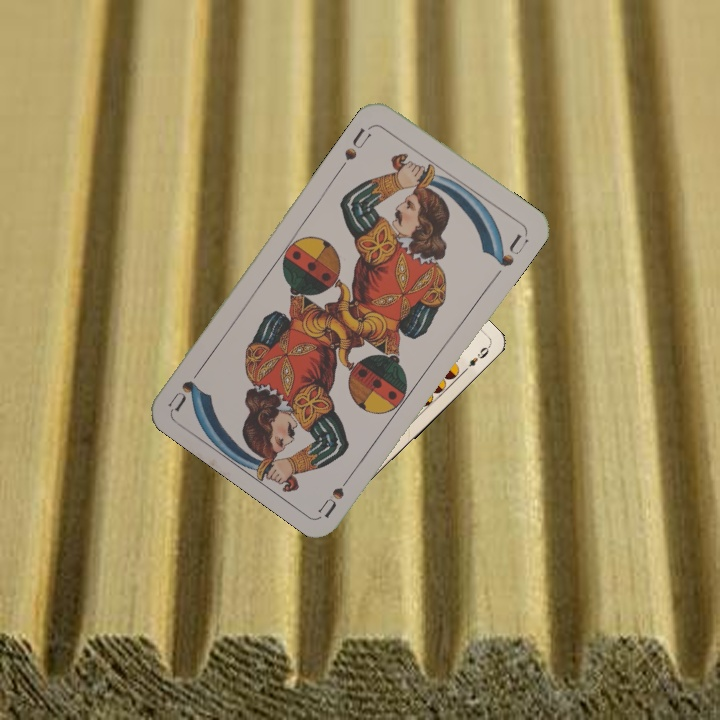SU: (315, 465, 358, 519), (340, 120, 377, 164)
